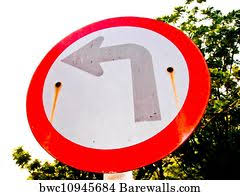left: (24, 15, 214, 176)
